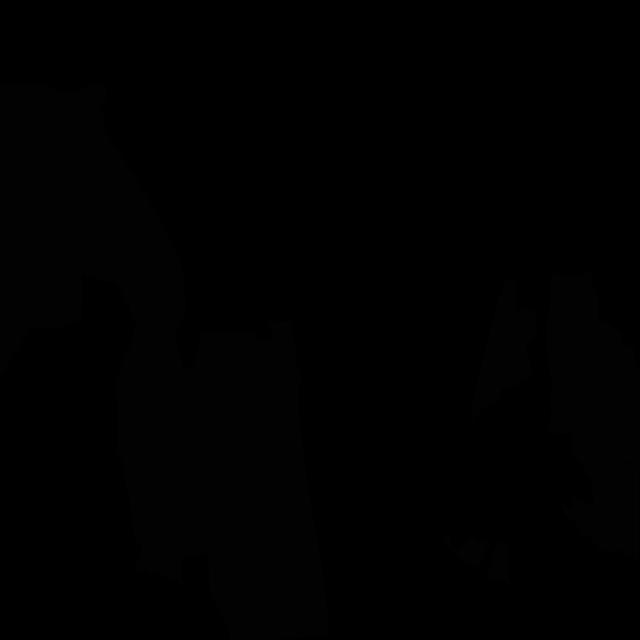cardboard: (184, 320, 330, 640), (0, 81, 112, 377), (72, 123, 186, 355), (116, 325, 207, 585), (546, 269, 640, 464), (560, 435, 640, 560), (471, 280, 538, 426), (444, 534, 492, 566), (486, 540, 512, 584)
